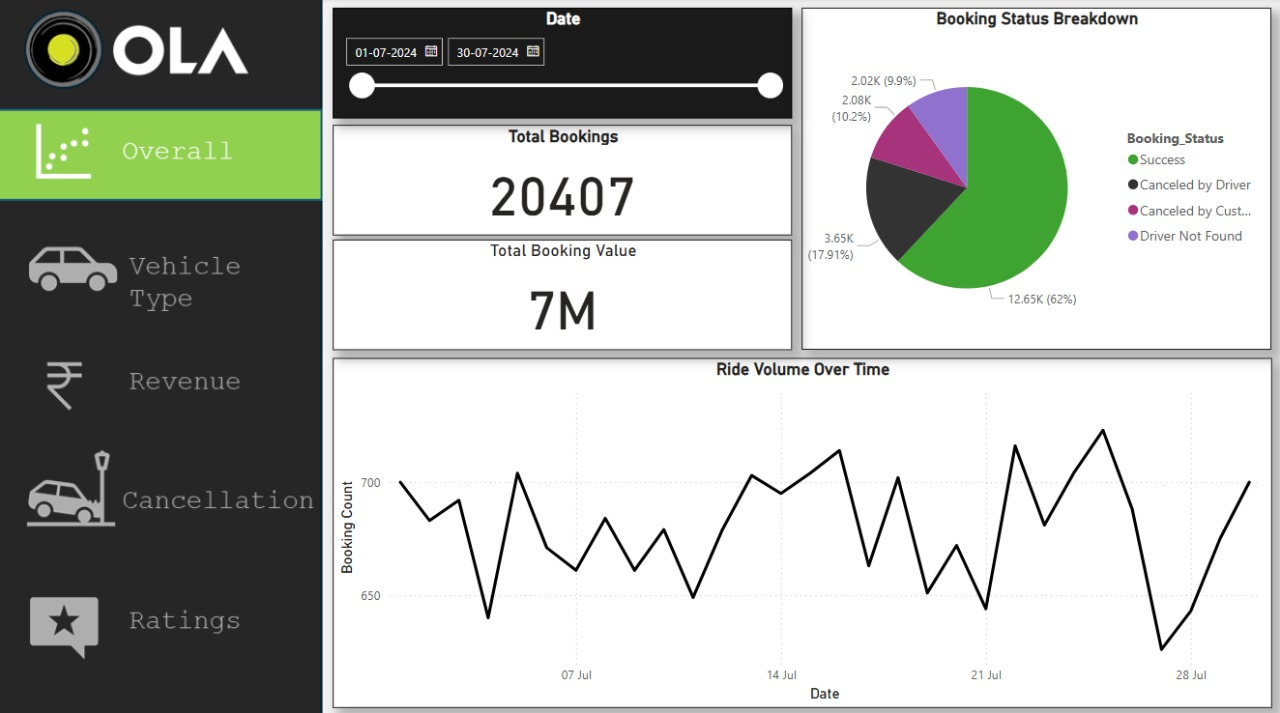

This screenshot's page, from the dashboard's own definition file:
{"tool":"powerbi","page":{"name":"Overall ","canvas":[1280,720],"ordinal":0},"visuals":[{"type":"actionButton","box":[0,228,324.5,90.5],"z":0},{"type":"actionButton","box":[0,340.2,324.5,88.1],"z":1000},{"type":"actionButton","box":[1.2,446.4,324.5,90.5],"z":2000},{"type":"actionButton","box":[0,580.3,324.5,94.1],"z":3000},{"type":"actionButton","box":[0,111,324.5,90.5],"z":4000},{"type":"lineChart","title":"Ride Volume Over Time","fields":{"Y":["CountNonNull(July.Booking_ID)"],"Category":["July.Date"]},"box":[334.2,359.5,937.4,349.9],"z":5000},{"type":"pieChart","title":"Booking Status Breakdown","fields":{"Category":["July.Booking_Status"],"Y":["CountNonNull(July.Booking_Status)"]},"box":[802.5,10,468.8,341.2],"z":6000},{"type":"card","title":"Total Bookings","fields":{"Values":["CountNonNull(July.Booking_ID)"]},"box":[333.8,126.2,458.8,110],"z":7000},{"type":"card","title":"Total Booking Value","fields":{"Values":["Sum(July.Booking_Value)"]},"box":[333.8,241.2,458.8,110],"z":8000},{"type":"slicer","title":"Date","fields":{"Values":["July.Date"]},"box":[333.8,10,458.8,110],"z":9000}]}

Visuals, with their boxes in screenshot pixels (x1, y1, x2, y2), scaled from the page's 1280x720 canvas onto the 1280x713 screenshot:
actionButton: (0,226,324,315)
actionButton: (0,337,324,424)
actionButton: (1,442,326,532)
actionButton: (0,575,324,668)
actionButton: (0,110,324,200)
"Ride Volume Over Time" lineChart: (334,356,1272,703)
"Booking Status Breakdown" pieChart: (802,10,1271,348)
"Total Bookings" card: (334,125,793,234)
"Total Booking Value" card: (334,239,793,348)
"Date" slicer: (334,10,793,119)
